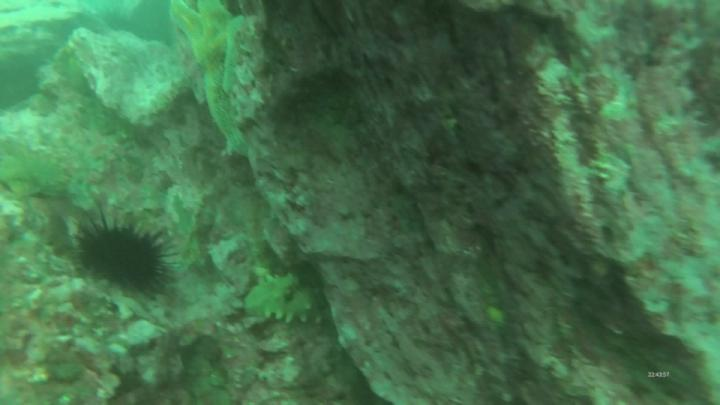echinus: (70, 209, 177, 304)
holothurian: (247, 273, 331, 333)
starfish: (166, 2, 255, 156)
